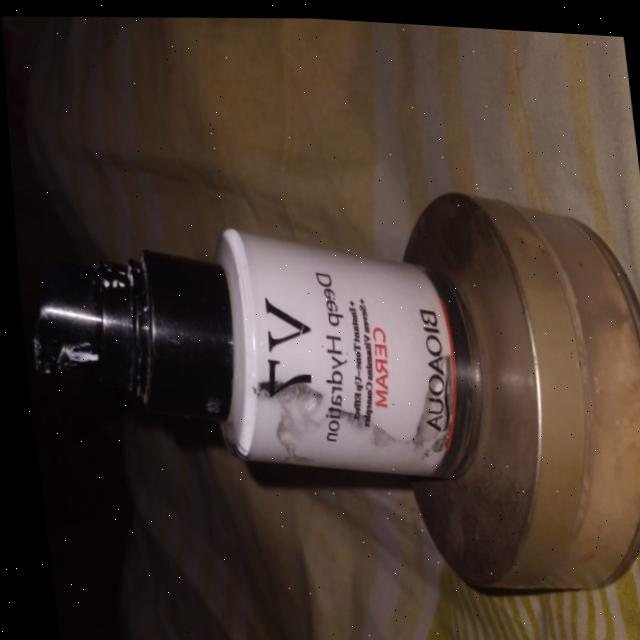serum: (9, 170, 479, 524)
